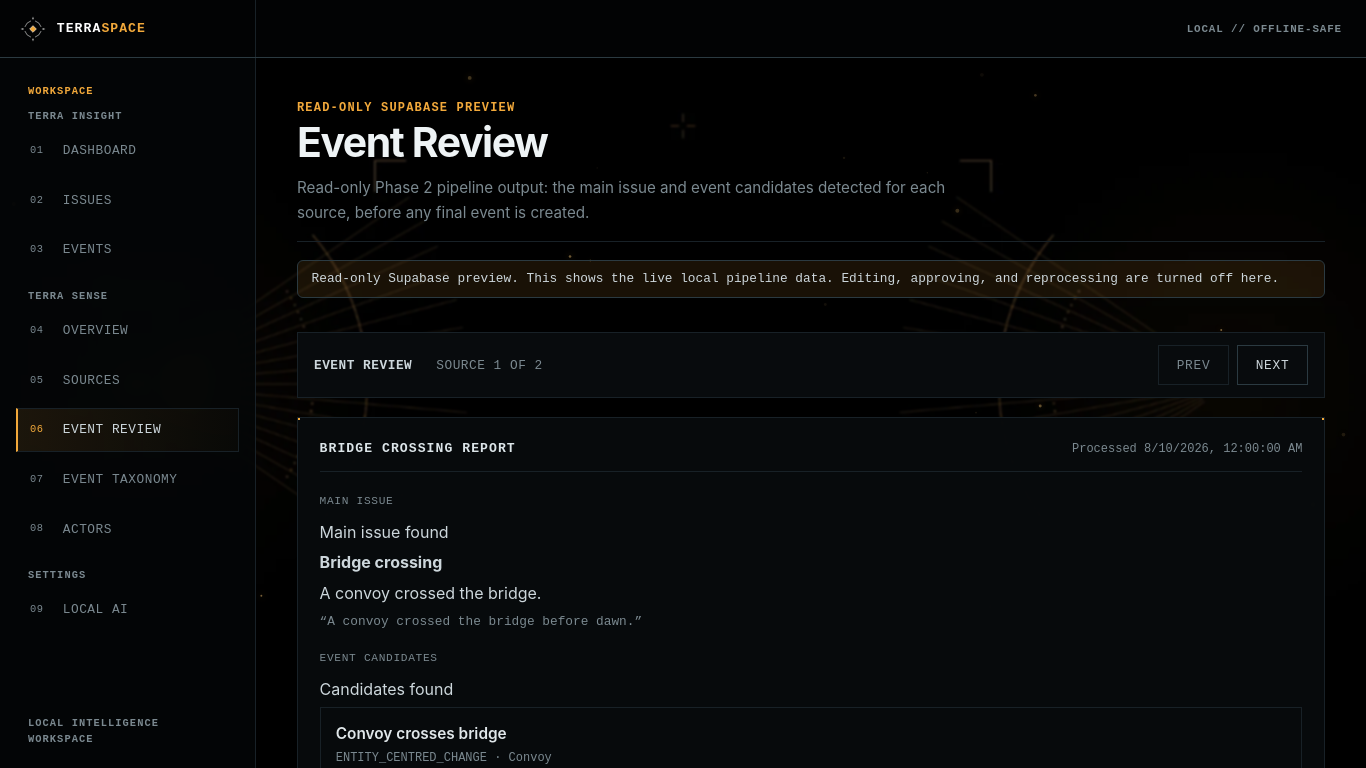
Test case: EventReviewPage (Supabase read-only pipeline output) › pages to the next and back to the previous source
Check: the heading "Bridge crossing report" is shown, box left=320, top=439, right=516, bottom=459
Step 1. Click the button "Next" → (1272, 365), box left=1237, top=345, right=1308, bottom=385
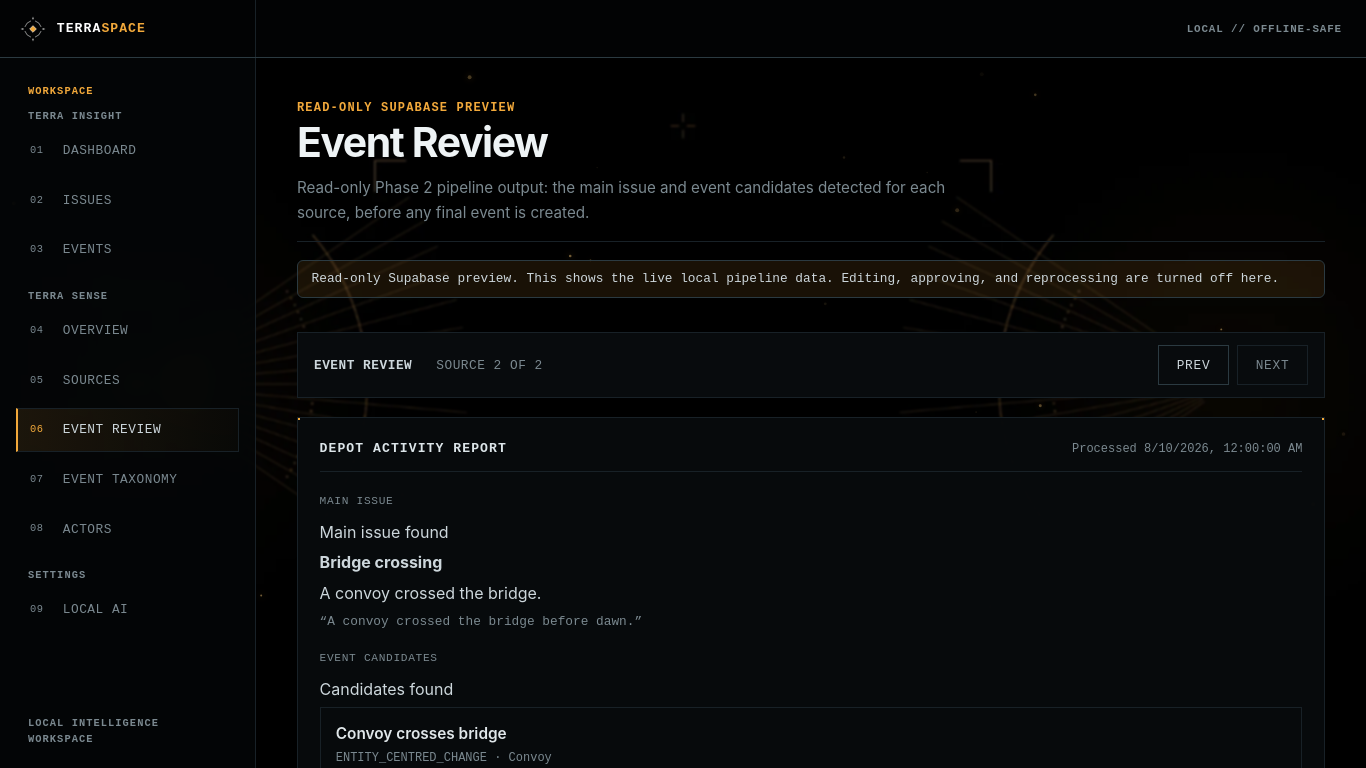
Check: the heading "Depot activity report" is shown, box left=320, top=439, right=507, bottom=459
Check: the text "Source 2 of 2" is shown, box left=436, top=356, right=543, bottom=375
Check: the button "Next" is disabled, box left=1237, top=345, right=1308, bottom=385
Step 2. Click the button "Prev" → (1194, 365), box left=1158, top=345, right=1229, bottom=385
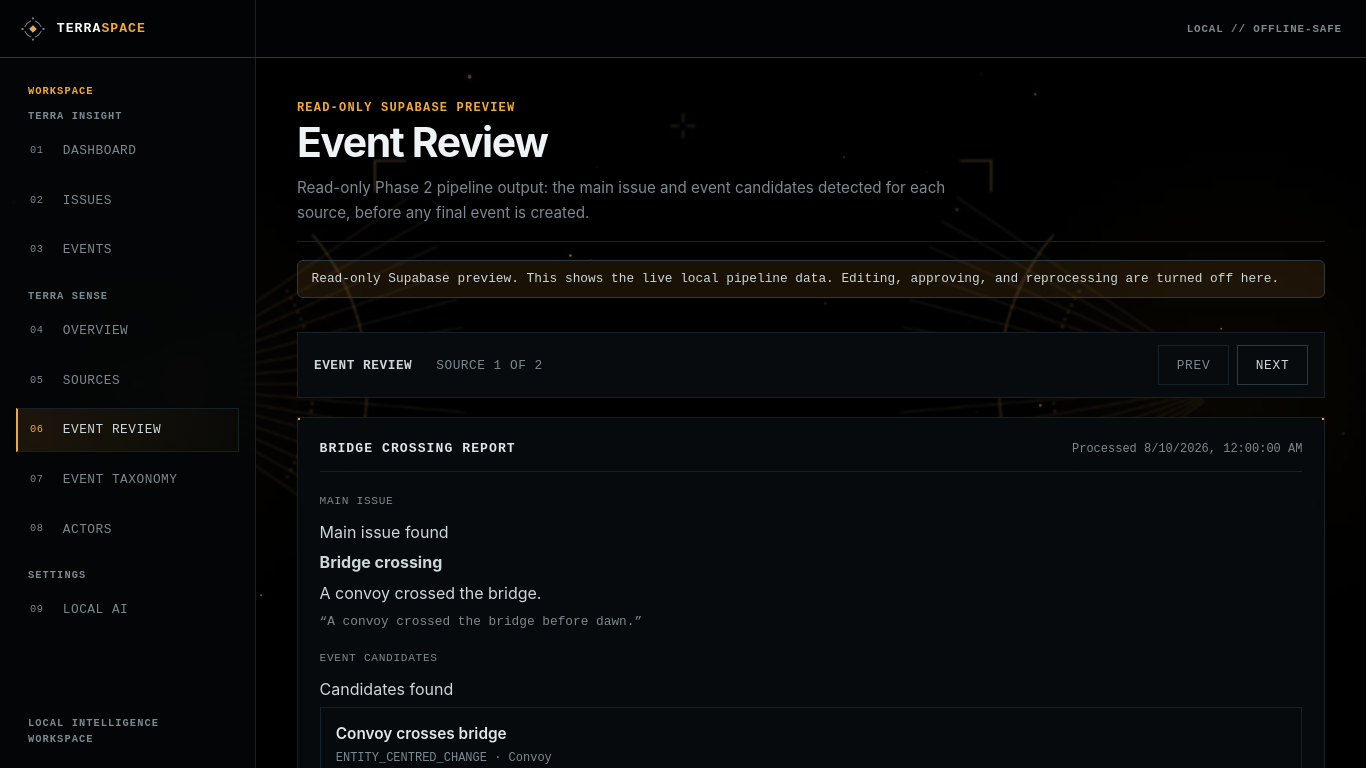
Check: the heading "Bridge crossing report" is shown, box left=320, top=439, right=516, bottom=459
Check: the button "Prev" is disabled, box left=1158, top=345, right=1229, bottom=385
